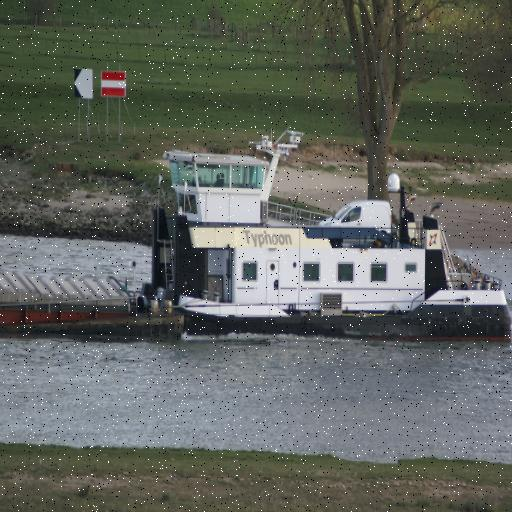tugboat: (143, 123, 512, 357)
